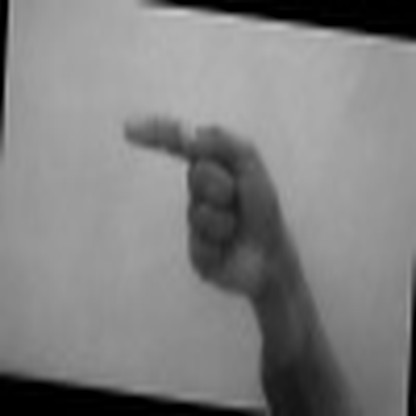g: (117, 108, 299, 290)
